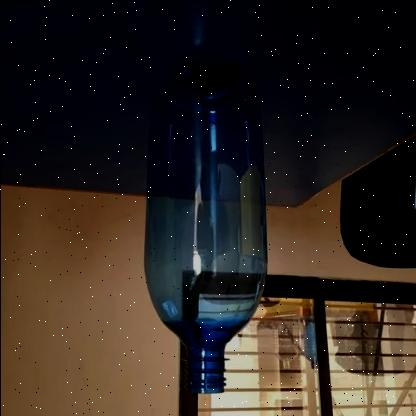Plastic Bottle: (131, 50, 279, 404)
